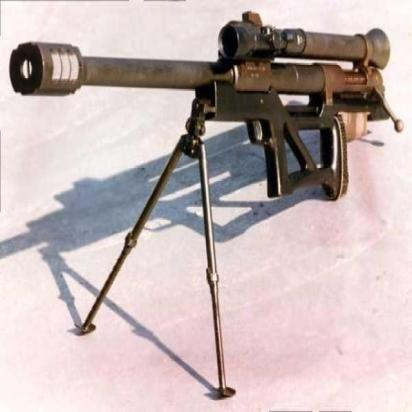Gun: (8, 14, 403, 207)
